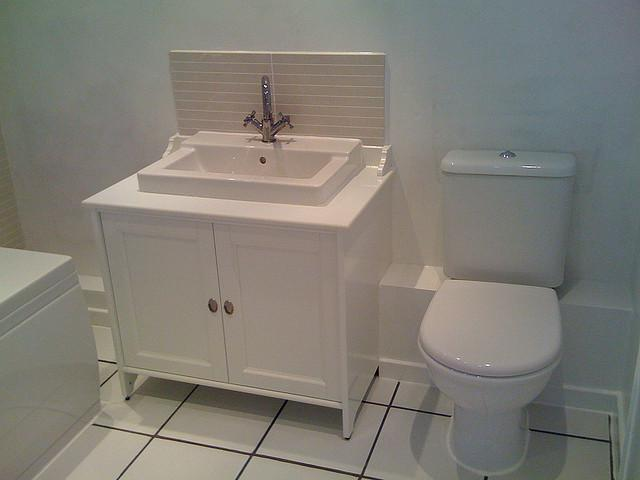Lavamanos: (145, 74, 369, 207)
Sanitario: (417, 146, 579, 476)
